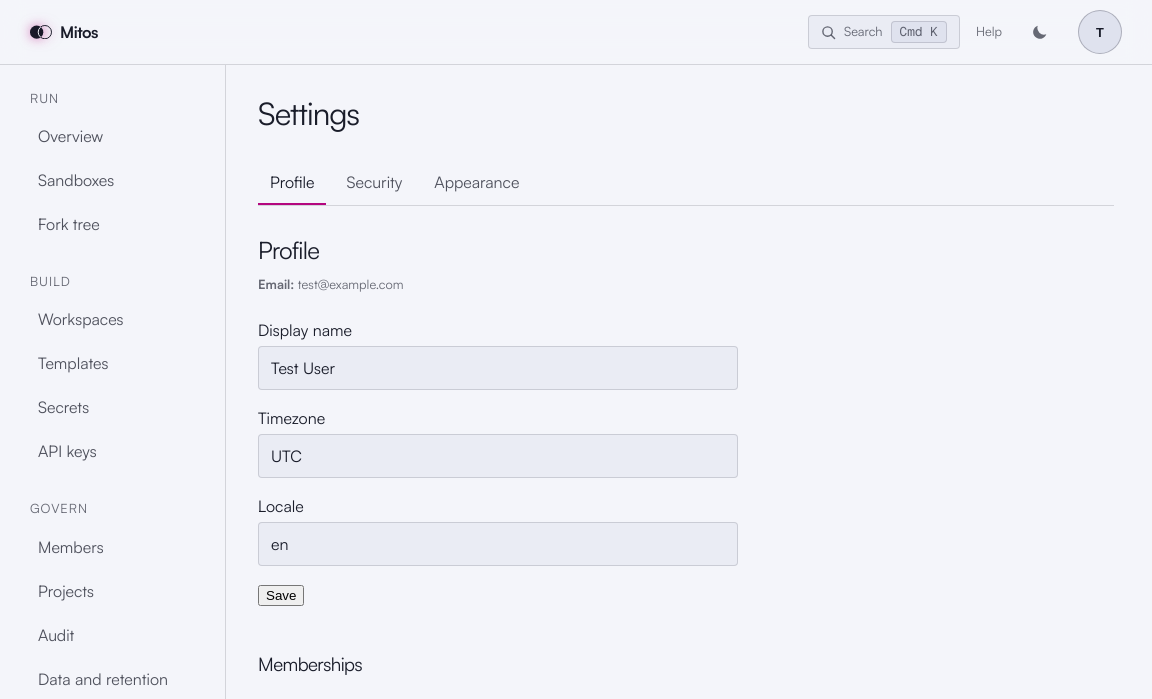
Test: Settings accessibility › has no axe violations on the Appearance tab under the light theme
This screenshot has width=1152, height=699.
Expected: the heading "Settings" is shown, x1=258 y1=97 x2=359 y2=129
Click the tab "Appearance". click: click(477, 183)
box: x1=422 y1=161 x2=531 y2=205
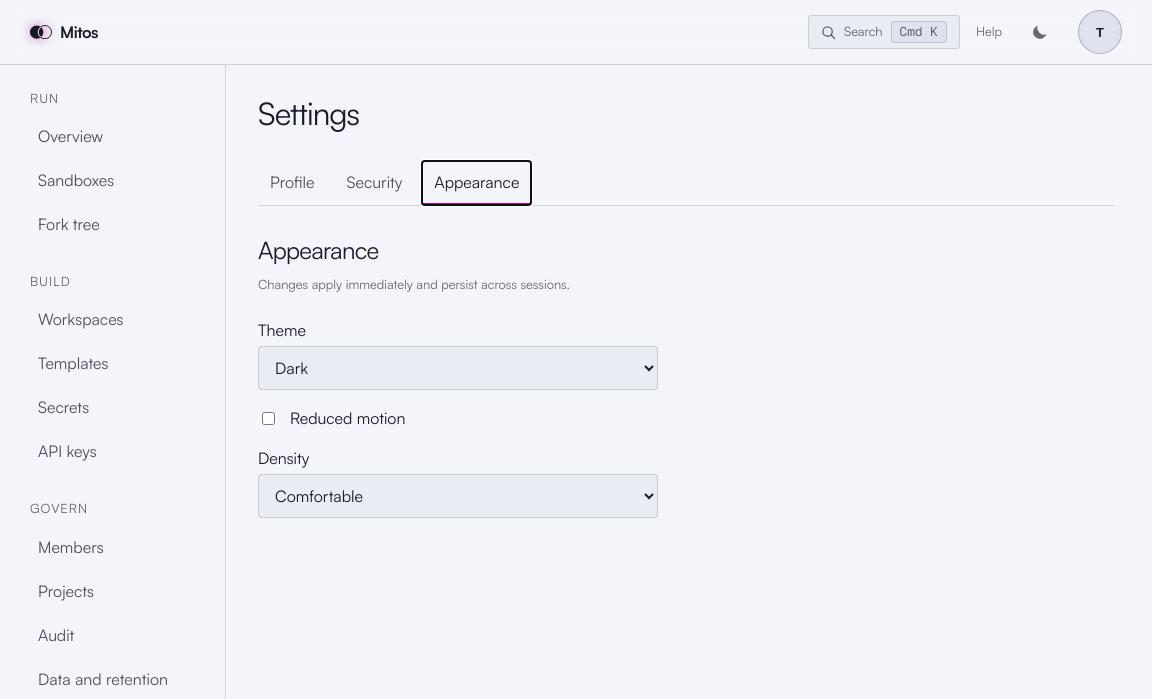
Now the dropdown labelled "Theme" is shown, box x1=258 y1=346 x2=658 y2=390
